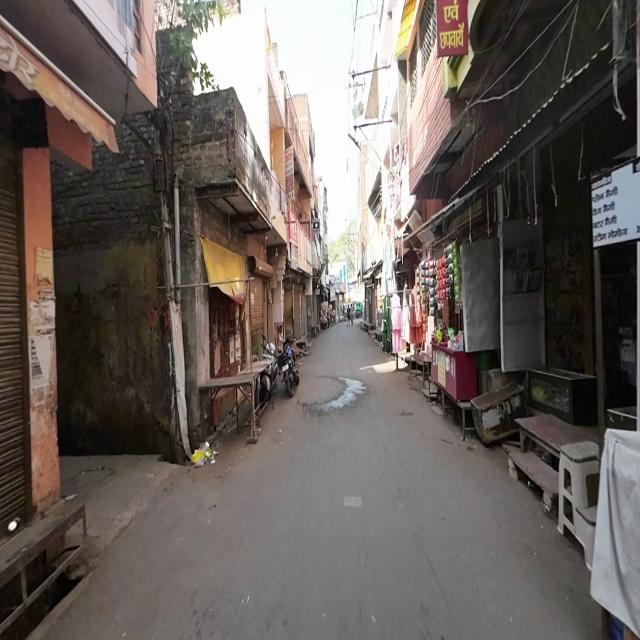Garbage: (192, 442, 220, 467)
